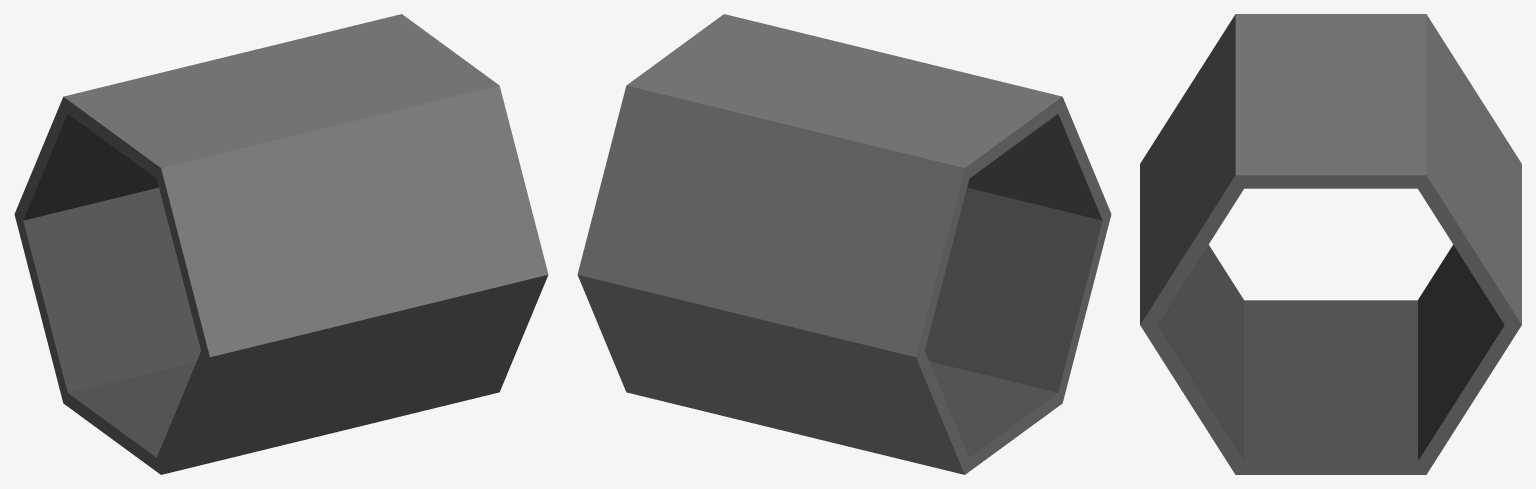
The model's file is Tubo.fbx.
3 renders of one model, left to right at view 1: azimuth 30°, elevation 25°; view 2: azimuth 150°, elevation 25°; view 3: azimuth 270°, elevation 25°, orthographic. The views are drawn at different scales.
Visible parts, largest first — view 1: pCylinder5; view 2: pCylinder5; view 3: pCylinder5.
Boxes of the visible parts, box(x1,y1,x2,y2) form: pCylinder5: box(14, 14, 548, 474); pCylinder5: box(577, 14, 1111, 474); pCylinder5: box(1140, 14, 1521, 474).
Size of the model in its own units: 4 by 3.46 by 4.
